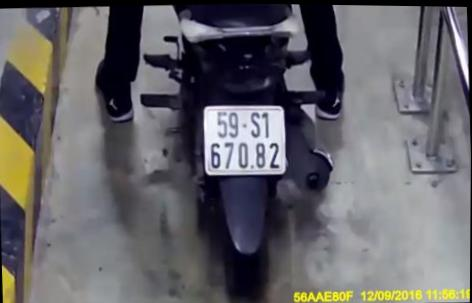LP: (201, 98, 288, 178)
